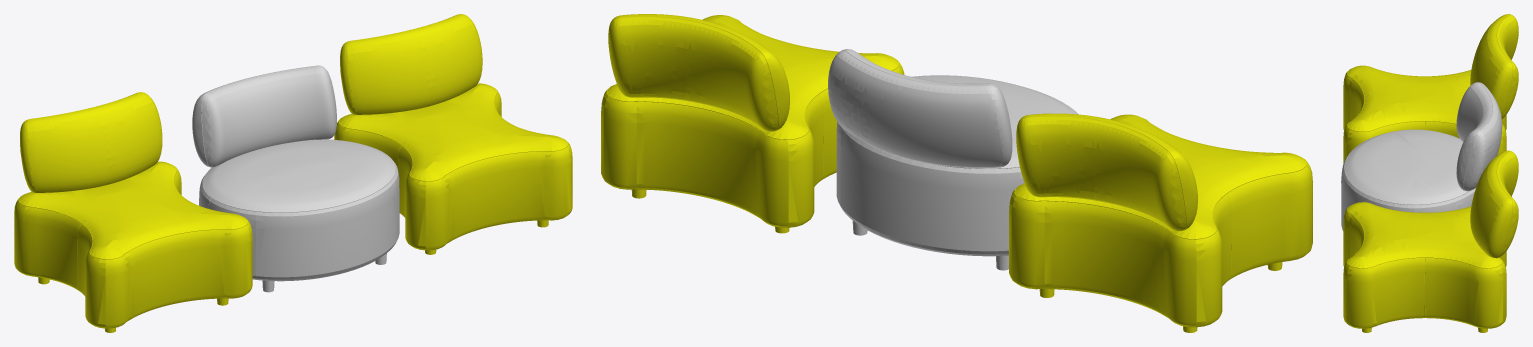
The model's file is sofa_modular.glb.
3 views of the same model, side by side, from view 1: azimuth 30°, elevation 25°; view 2: azimuth 150°, elevation 25°; view 3: azimuth 270°, elevation 25° (orthographic). The views are drawn at different scales.
Visible parts, largest first — view 1: Sofa_Left.001, Sofa_Right.001, Sofa_Center.001; view 2: Sofa_Left.001, Sofa_Right.001, Sofa_Center.001; view 3: Sofa_Right.001, Sofa_Center.001, Sofa_Left.001.
Part boxes in pixels (left/top/right/bottom): Sofa_Left.001: left=14, top=92, right=252, bottom=332; Sofa_Right.001: left=334, top=14, right=572, bottom=254; Sofa_Center.001: left=192, top=65, right=399, bottom=292; Sofa_Left.001: left=1009, top=113, right=1312, bottom=332; Sofa_Right.001: left=601, top=14, right=904, bottom=233; Sofa_Center.001: left=828, top=49, right=1078, bottom=270; Sofa_Right.001: left=1343, top=150, right=1518, bottom=332; Sofa_Center.001: left=1341, top=82, right=1502, bottom=230; Sofa_Left.001: left=1343, top=14, right=1518, bottom=163.
Size of the model in its own units: 2.4 by 0.7387 by 0.8776.
